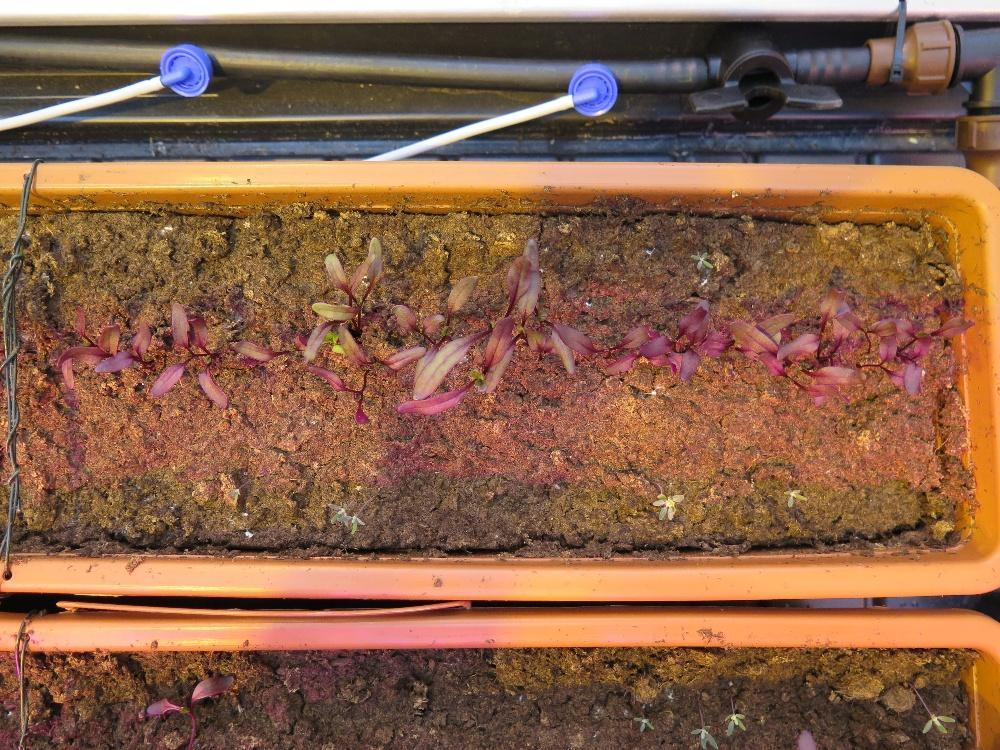weed: (920, 713, 955, 735), (722, 711, 746, 735), (781, 485, 807, 507), (689, 248, 711, 270), (632, 715, 654, 733)
